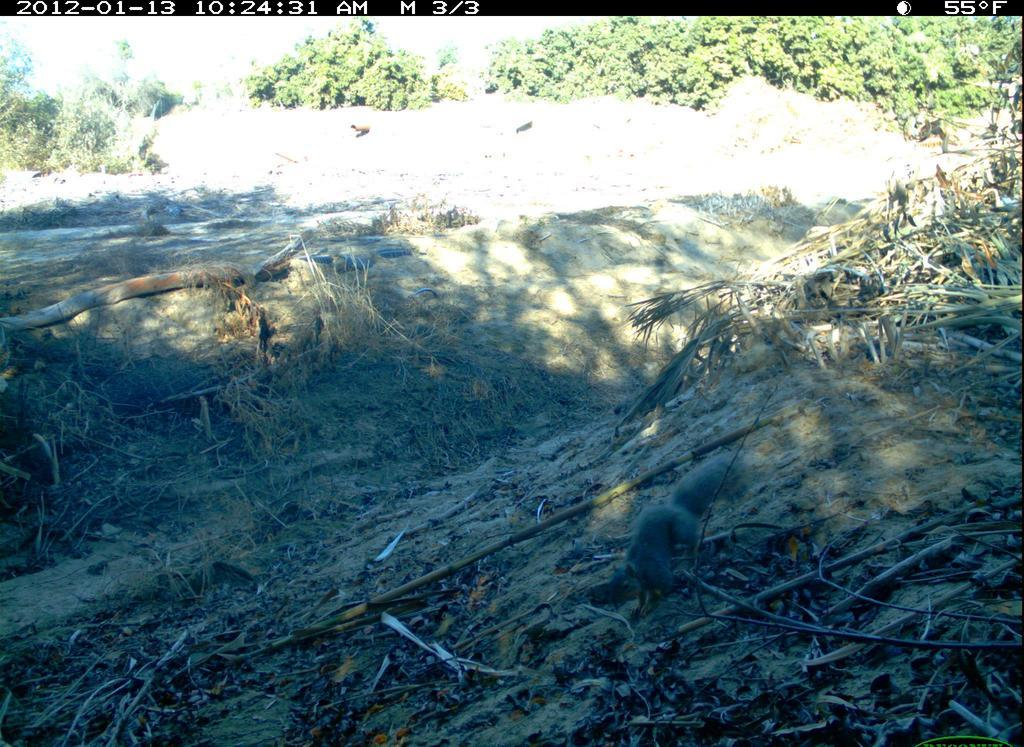squirrel: (601, 437, 776, 628)
